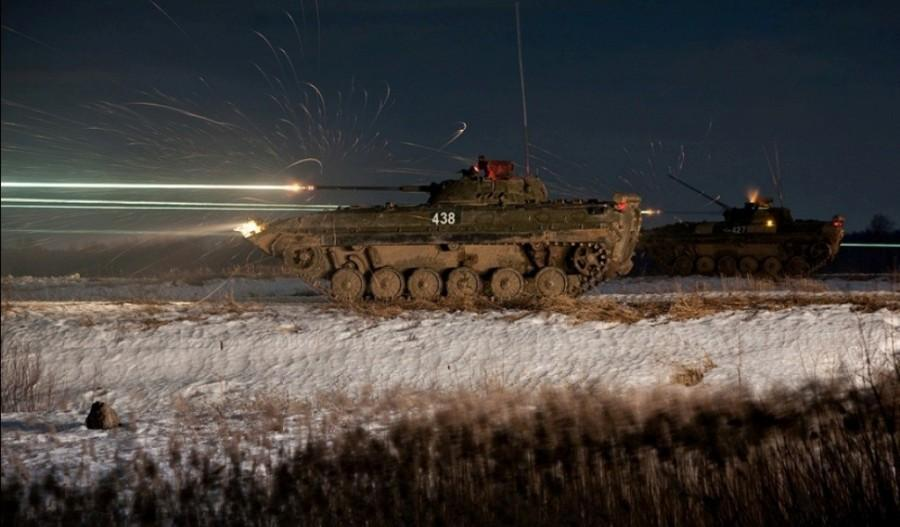tank: (244, 155, 642, 311), (637, 172, 846, 278)
